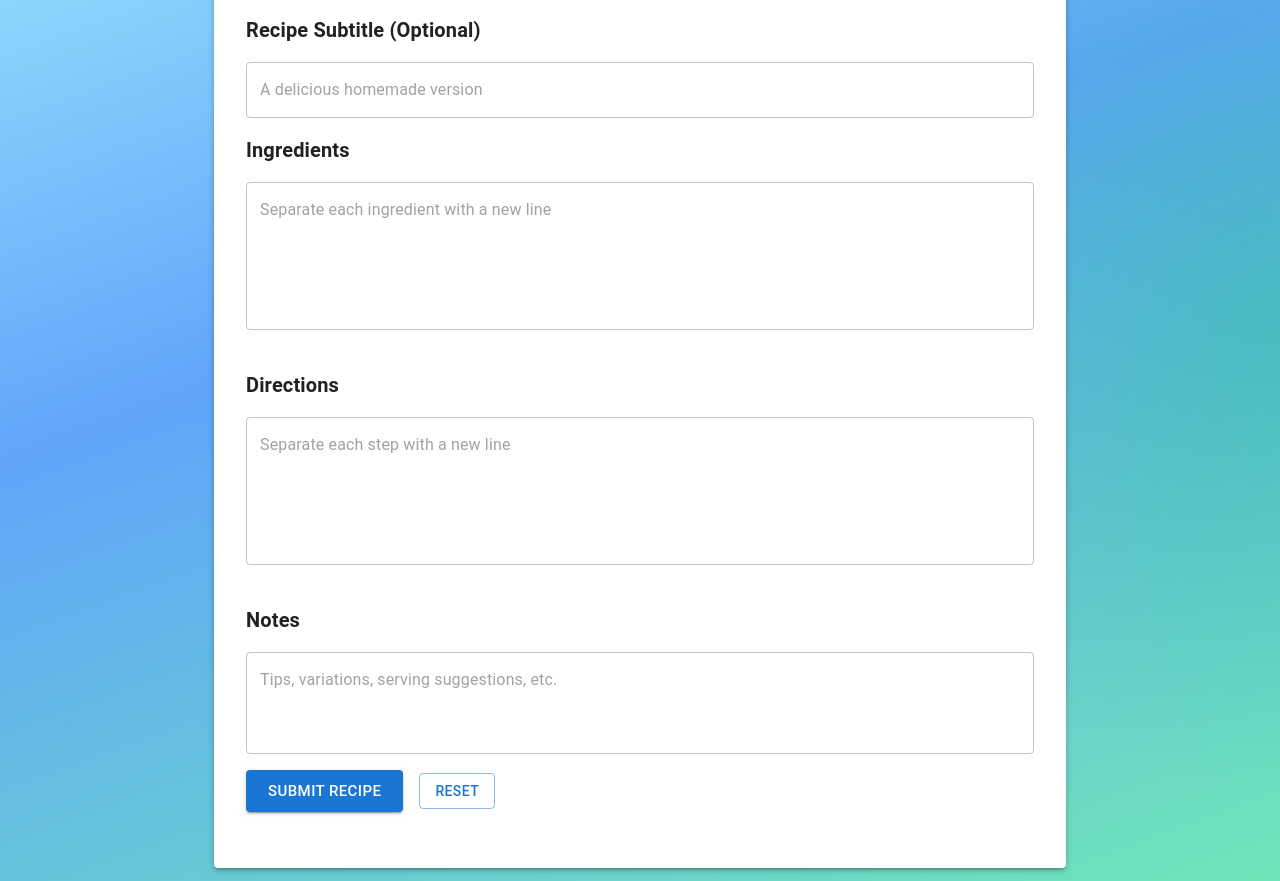
Home - Recipe Submission Form › clears field error when user types in that field
(page scrolled)
Click the button "Submit Recipe": x=325, y=791 [246,770,403,812]
(page scrolled)
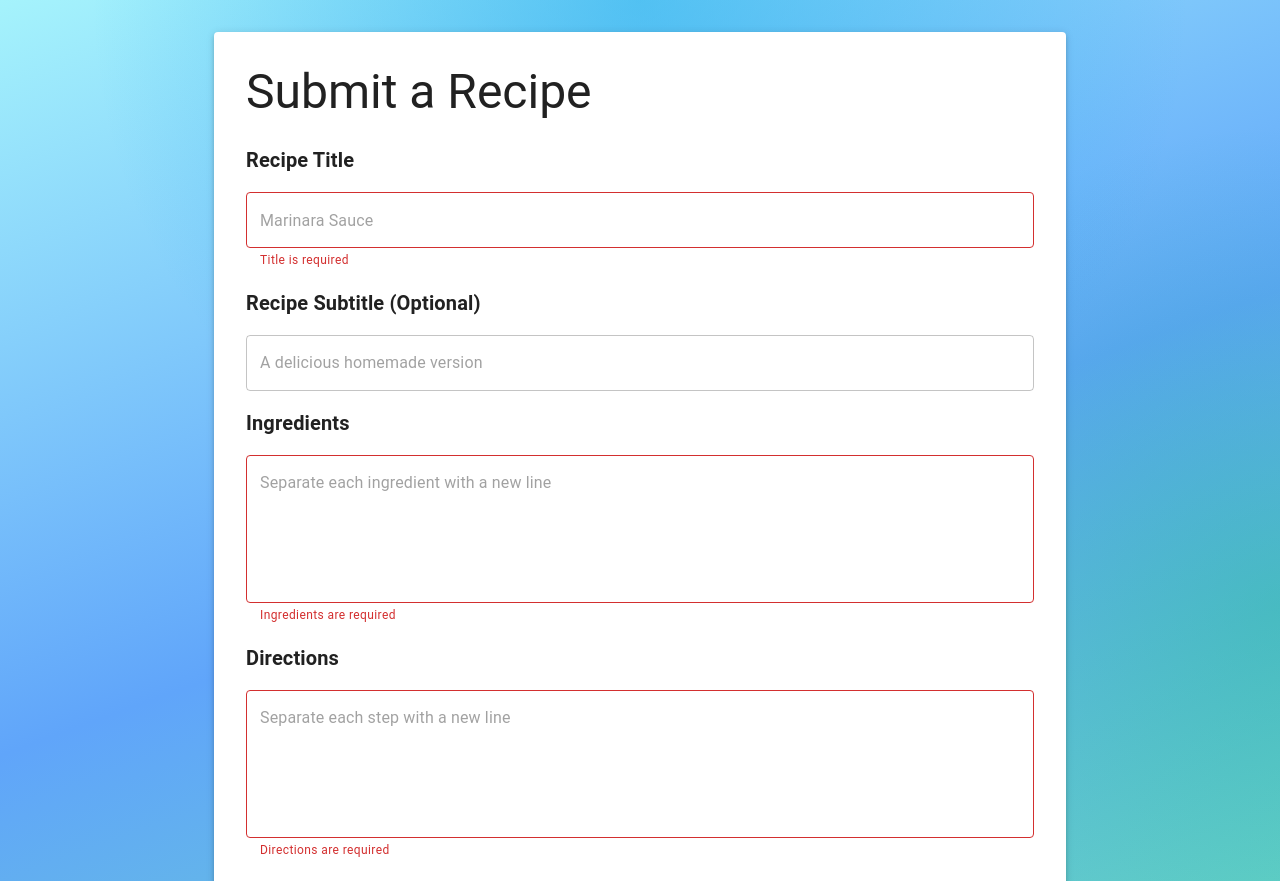
Result: the text "Title is required" is shown at [260,253,349,267]
In the field with placeholder "Marinara Sauce": x=640, y=220 [246,192,1034,248], type "My Cake"
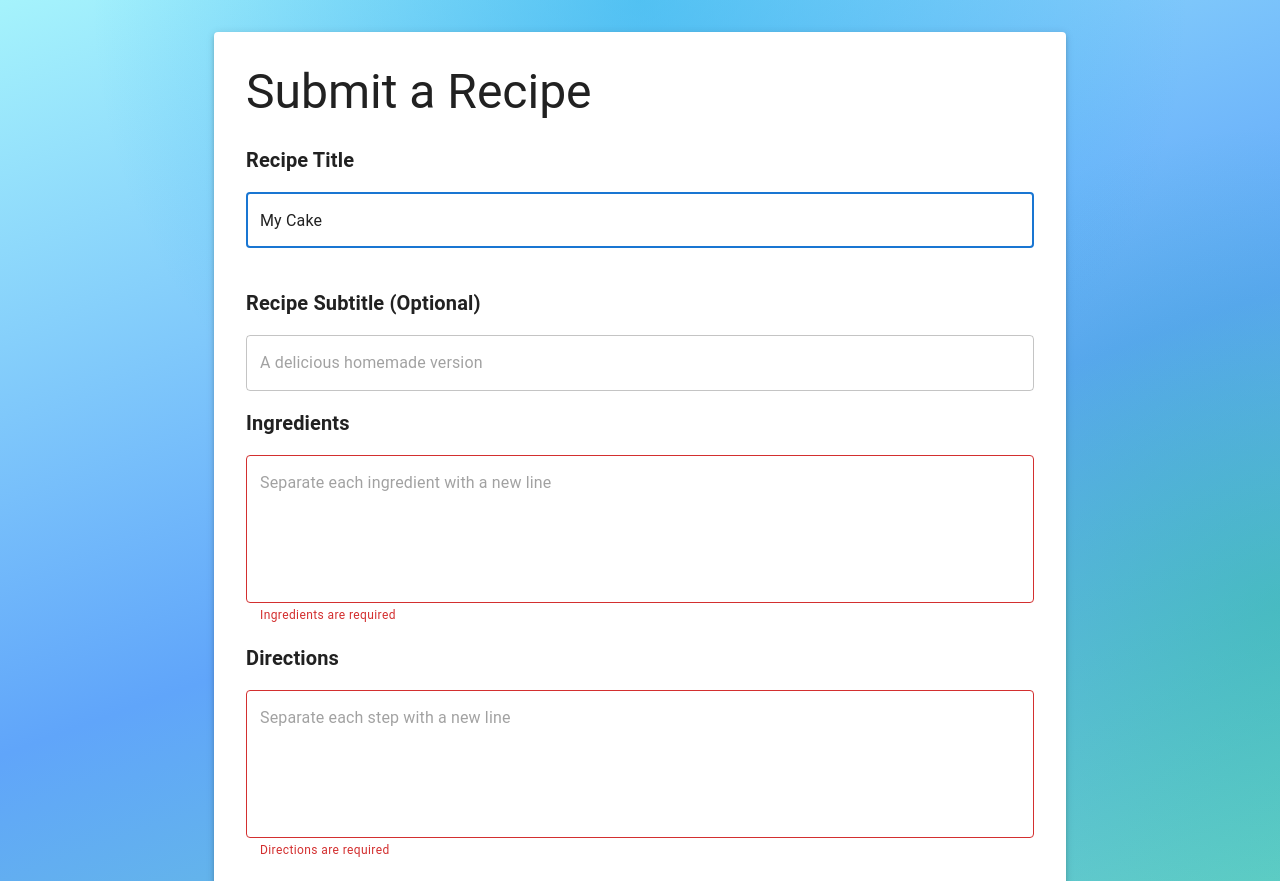
Result: the text "Title is required" is gone
